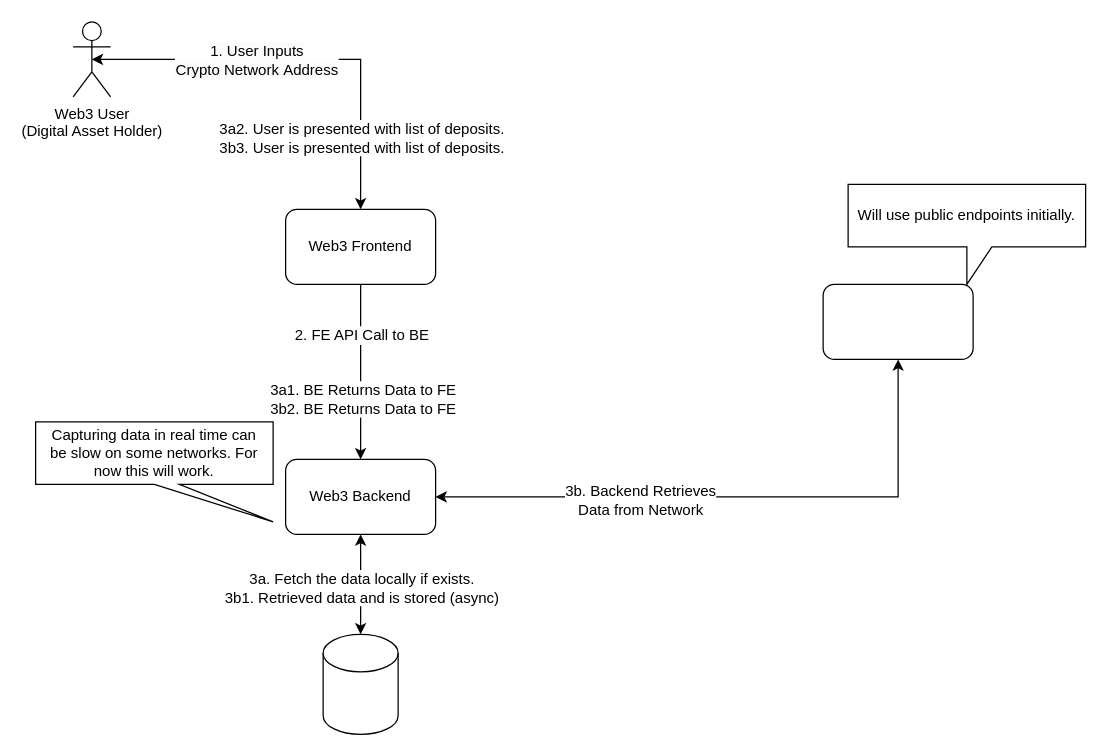
The diagram is 1108 pixels wide and 756 high, and some of its shapes have lost their labels. The shapes that lost their labels are listed below. From the top down, each one's centre as x and y in pixels, then its label:
At pixel 897 321: "Crypto Network ($BTC, $ETH, $AVAX, $XRP)".
At pixel 360 683: "Can DB".
